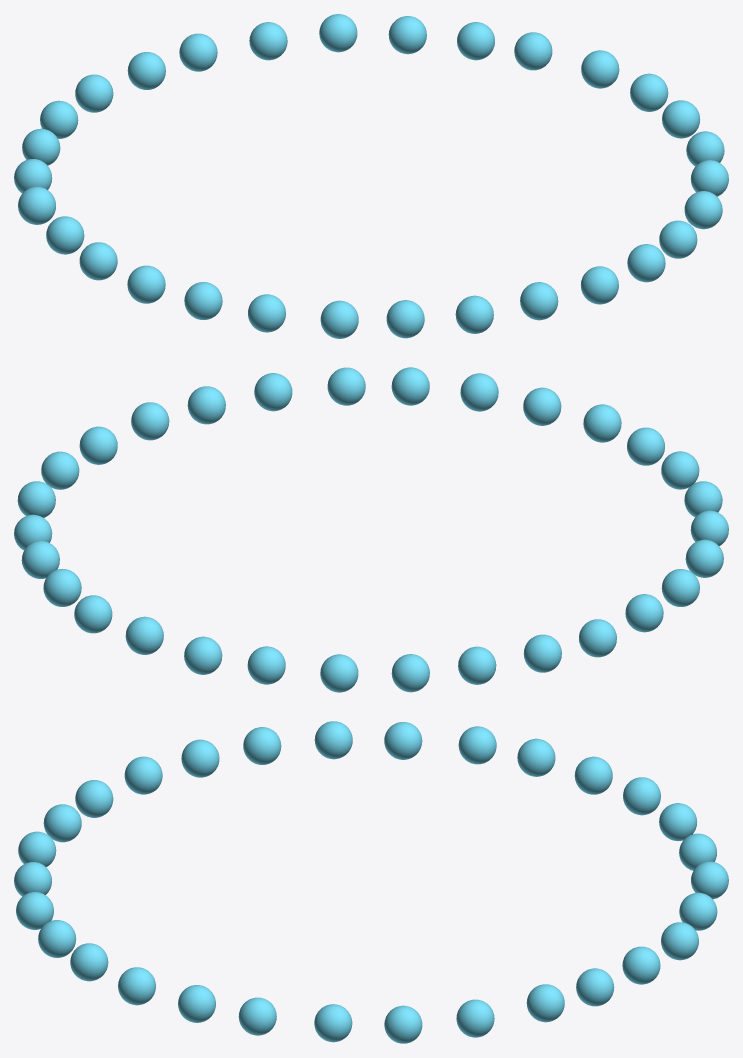
3 views of the same model, one above another, from view 1: azimuth 30°, elevation 25°; view 2: azimuth 150°, elevation 25°; view 3: azimuth 270°, elevation 25° (orthographic).
Visible parts, largest first — view 1: Sphere049; view 2: Sphere049; view 3: Sphere049.
Boxes of the visible parts, <box> form: Sphere049: <box>14,14,728,338</box>; Sphere049: <box>14,367,728,692</box>; Sphere049: <box>14,721,728,1043</box>.
Bounding box in the file's own units: 153 × 8.22 × 154.
